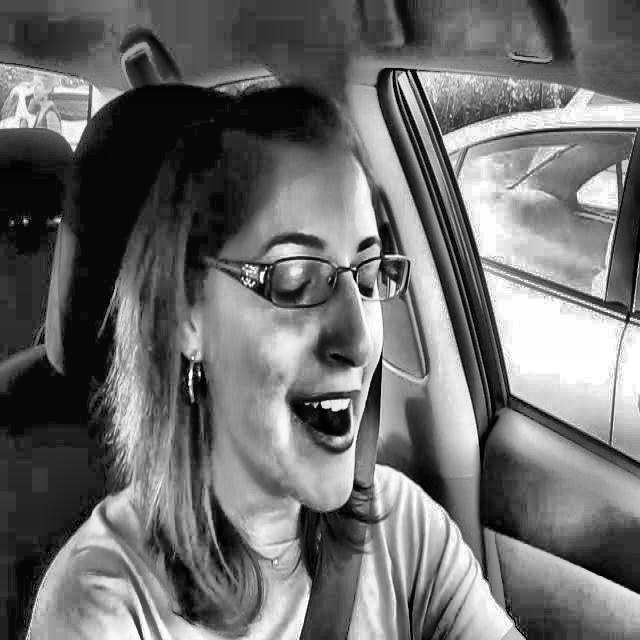closed_eyes: (258, 253, 328, 317), (351, 256, 413, 315)
open_mouth: (269, 366, 382, 479)
